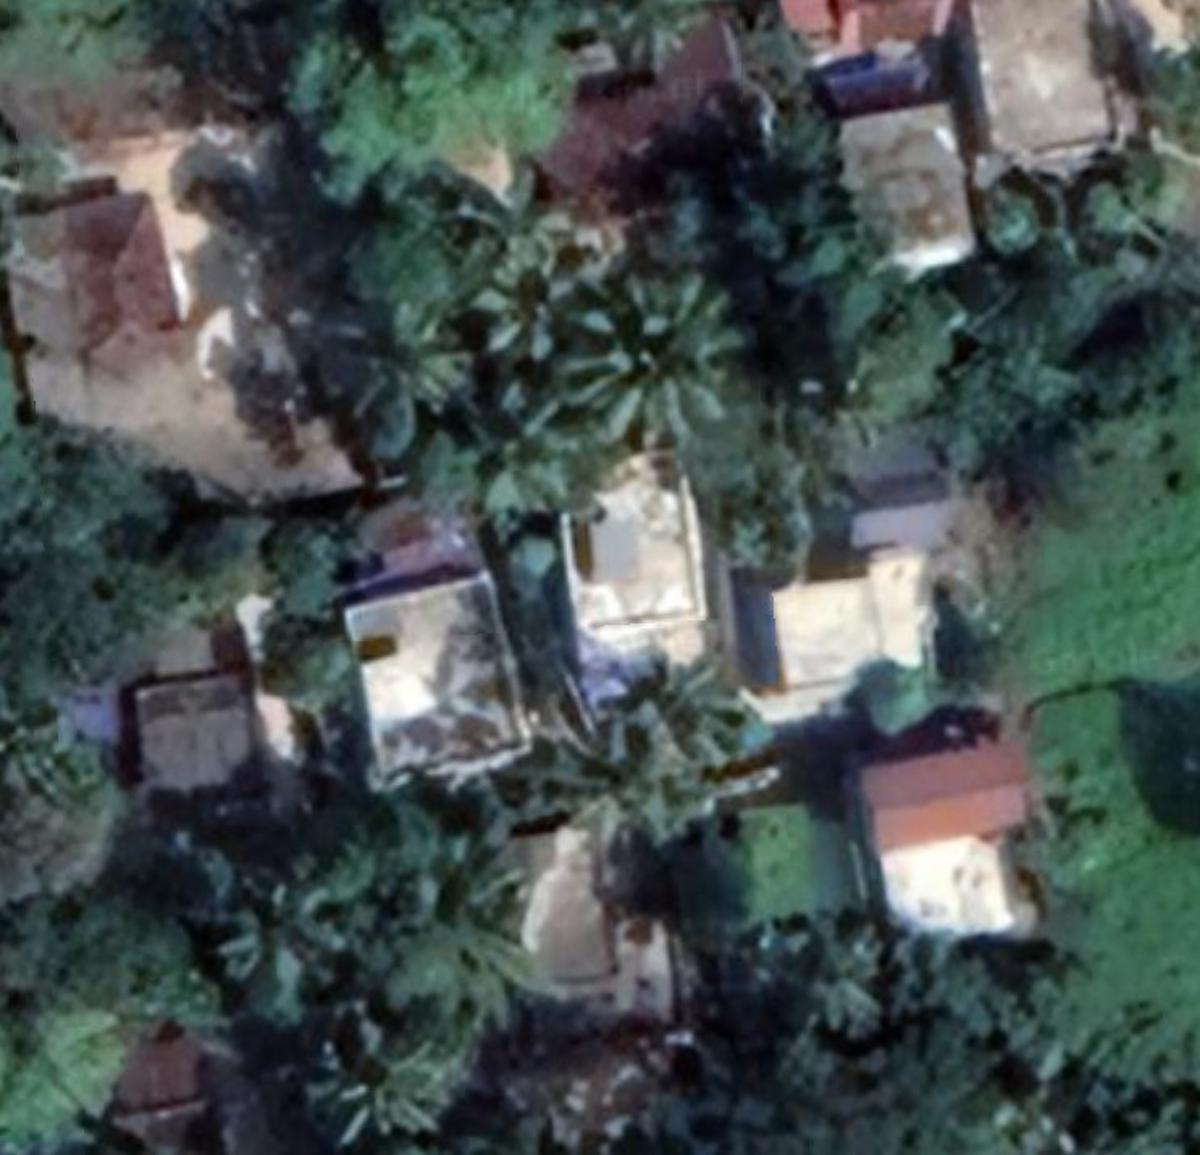coconut: (566, 276, 786, 505), (295, 1016, 499, 1143), (201, 864, 344, 1012), (620, 667, 768, 793), (466, 210, 591, 352)
